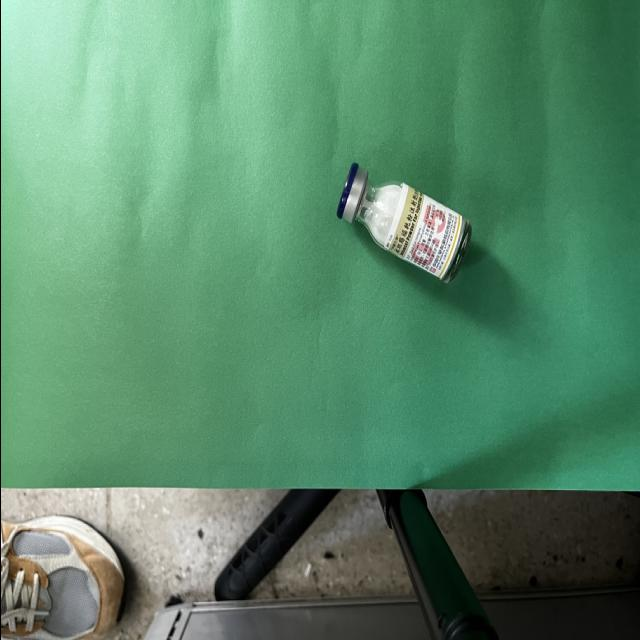Vials: (336, 163, 470, 283)
